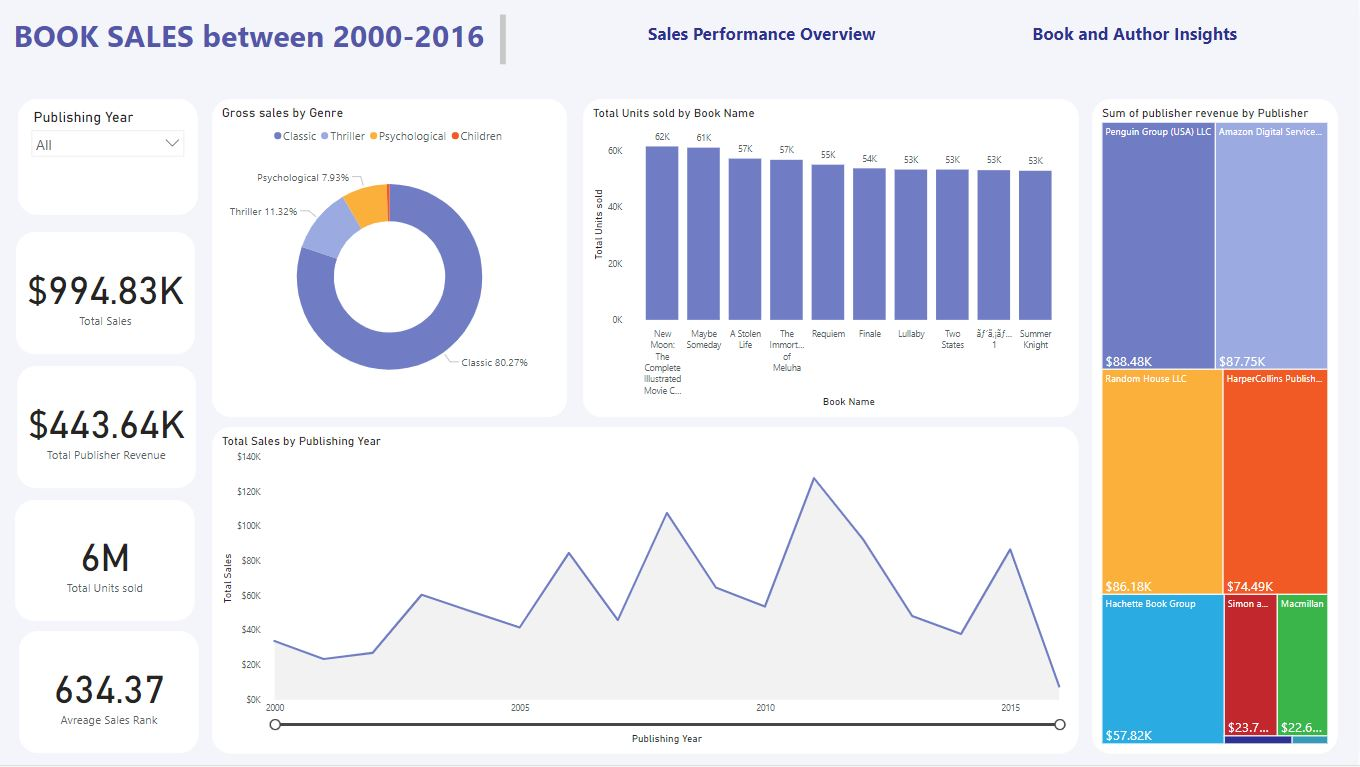

Layout of this report page (visuals, bound fields, positions):
{"tool":"powerbi","page":{"name":"Sales Performance Overview","canvas":[1920,1080],"ordinal":0},"visuals":[{"type":"textbox","box":[20.9,18.8,702.6,81.6],"z":0},{"type":"actionButton","title":"Insights","box":[863.4,22.7,432.7,53.6],"z":1000},{"type":"actionButton","title":"Sales","box":[1388.8,22.7,432.7,53.6],"z":2000},{"type":"card","fields":{"Values":["Books_Data_Clean.Total Sales"]},"box":[30,330,251.7,171.7],"z":3000},{"type":"card","fields":{"Values":["Books_Data_Clean.Total Publisher Revenue"]},"box":[31.7,518.3,251.7,171.7],"z":4000},{"type":"card","fields":{"Values":["Books_Data_Clean.Total Units sold"]},"box":[28.3,706.7,253.3,170],"z":5000},{"type":"card","fields":{"Values":["Books_Data_Clean.Avreage Sales Rank"]},"box":[33.3,891.7,253.3,171.7],"z":6000},{"type":"slicer","fields":{"Values":["Books_Data_Clean.Publishing Year"]},"box":[32.5,142.5,252.5,162.5],"z":7000},{"type":"donutChart","title":"Gross sales by Genre","fields":{"Category":["Books_Data_Clean.genre"],"Y":["Sum(Books_Data_Clean.gross sales)"]},"box":[306,142,500,448],"z":8000},{"type":"columnChart","fields":{"Category":["Books_Data_Clean.Book Name"],"Y":["Books_Data_Clean.Total Units sold"]},"box":[828,142,698,448],"z":9000},{"type":"treemap","fields":{"Group":["Books_Data_Clean.Publisher "],"Values":["Sum(Books_Data_Clean.publisher revenue)"]},"box":[1544,142,346,922],"z":10000},{"type":"areaChart","fields":{"Category":["Books_Data_Clean.Publishing Year"],"Y":["Books_Data_Clean.Total Sales"]},"box":[306,604,1220,460],"z":11000}]}

Visuals, with their boxes in screenshot pixels (x1, y1, x2, y2), scaled from the page's 1920x1080 canvas onto the 1360x767 screenshot:
textbox: region(15, 13, 512, 71)
"Insights" actionButton: region(612, 16, 918, 54)
"Sales" actionButton: region(984, 16, 1290, 54)
card - Books_Data_Clean.Total Sales: region(21, 234, 200, 356)
card - Books_Data_Clean.Total Publisher Revenue: region(22, 368, 201, 490)
card - Books_Data_Clean.Total Units sold: region(20, 502, 199, 623)
card - Books_Data_Clean.Avreage Sales Rank: region(24, 633, 203, 755)
slicer - Books_Data_Clean.Publishing Year: region(23, 101, 202, 217)
"Gross sales by Genre" donutChart: region(217, 101, 571, 419)
columnChart - Books_Data_Clean.Book Name x Books_Data_Clean.Total Units sold: region(586, 101, 1081, 419)
treemap - Books_Data_Clean.Publisher  x Sum(Books_Data_Clean.publisher revenue): region(1094, 101, 1339, 756)
areaChart - Books_Data_Clean.Publishing Year x Books_Data_Clean.Total Sales: region(217, 429, 1081, 756)
